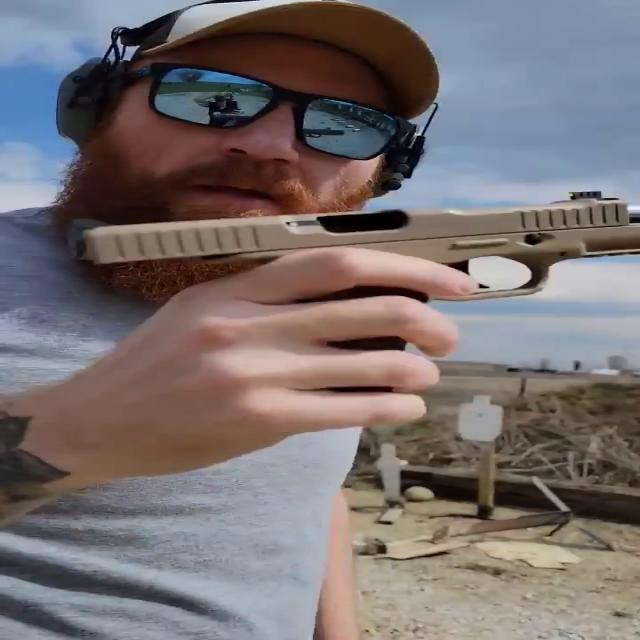Handgun: (62, 188, 640, 422)
